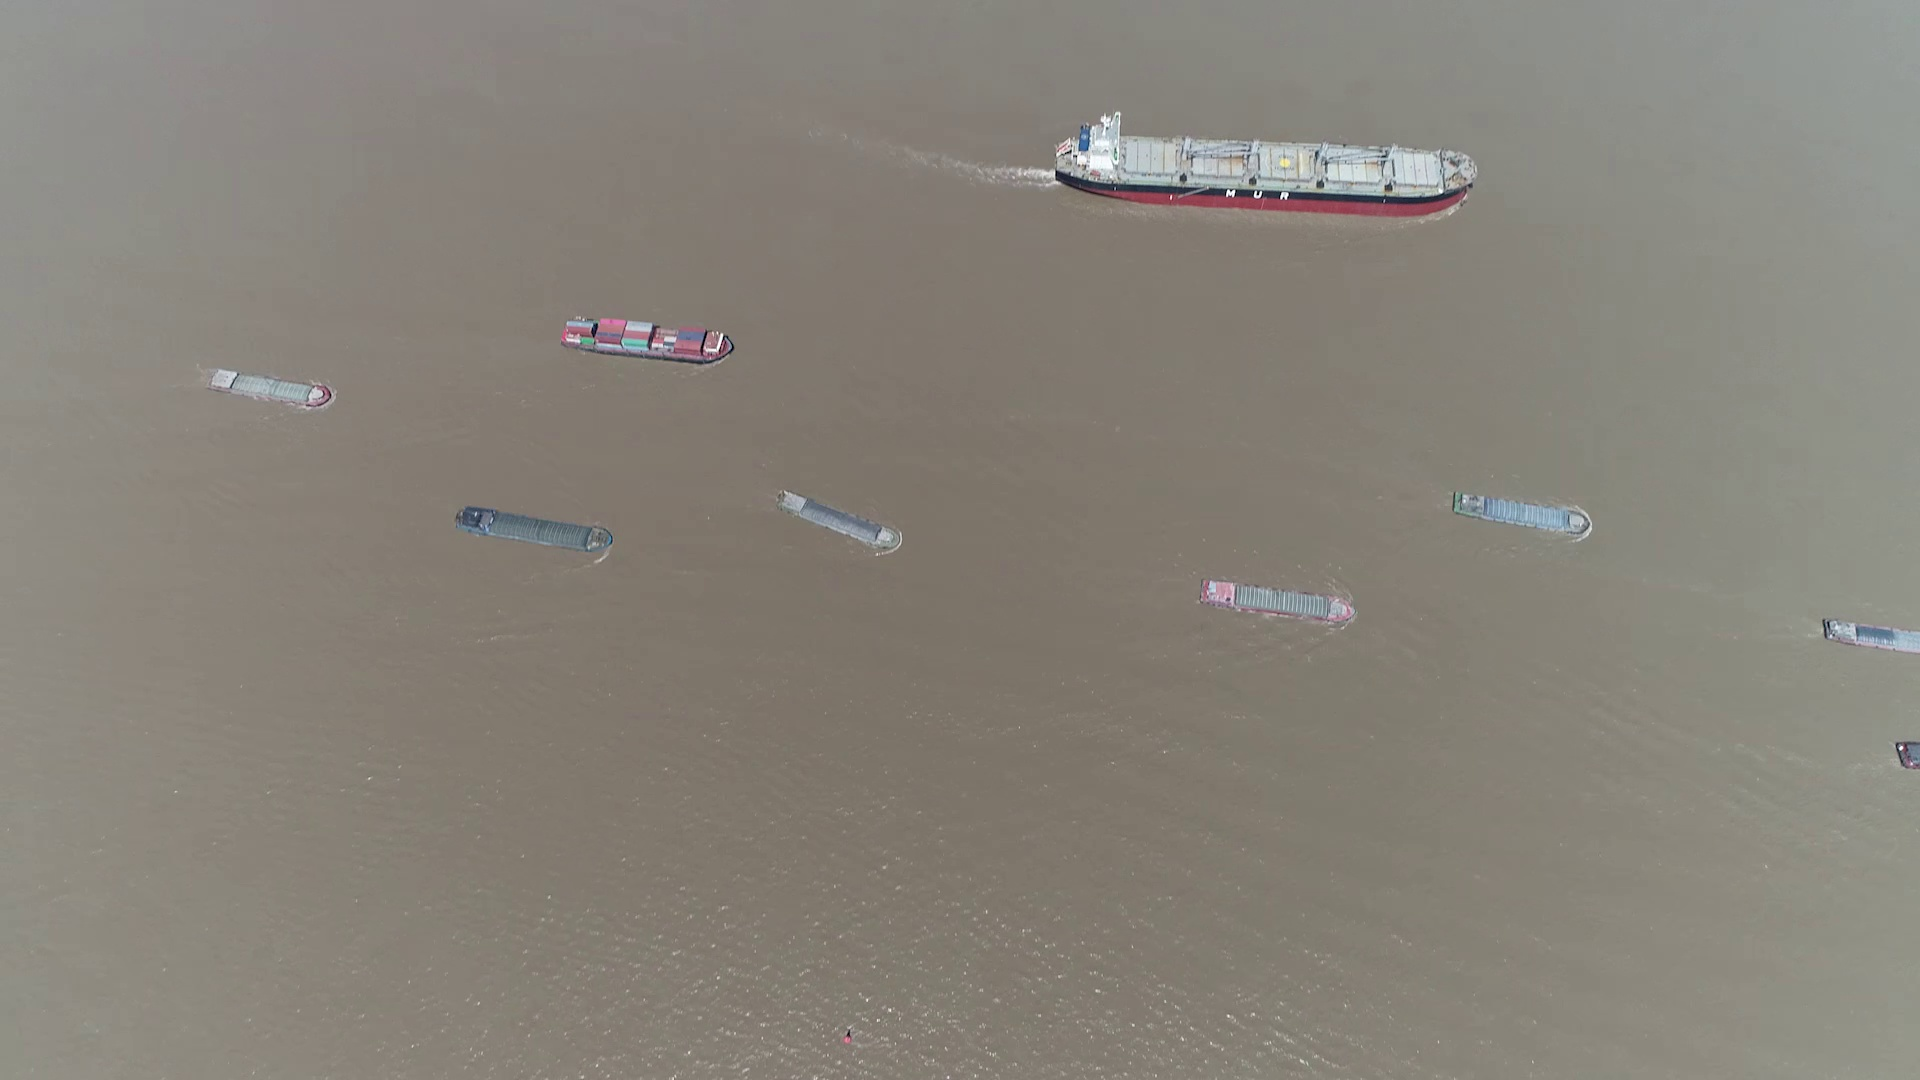ship: (1058, 119, 1474, 218), (563, 316, 737, 364), (782, 493, 905, 551), (458, 508, 615, 553), (1200, 579, 1356, 622), (1447, 491, 1592, 537), (207, 367, 332, 407), (1821, 618, 1919, 655), (1896, 742, 1920, 771)
